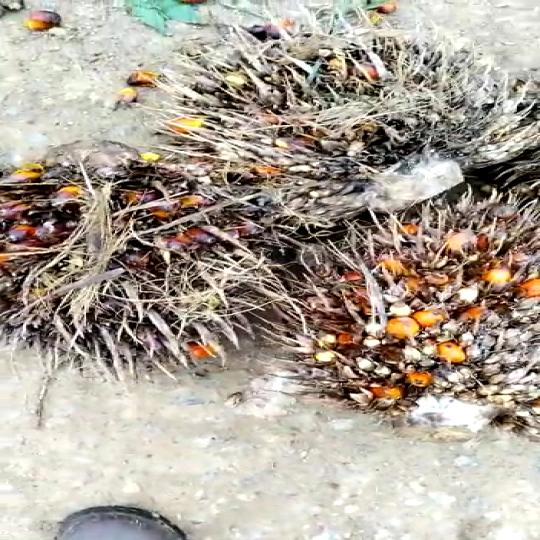terlalu masak: (143, 29, 530, 205), (0, 144, 313, 358), (285, 227, 540, 428)
